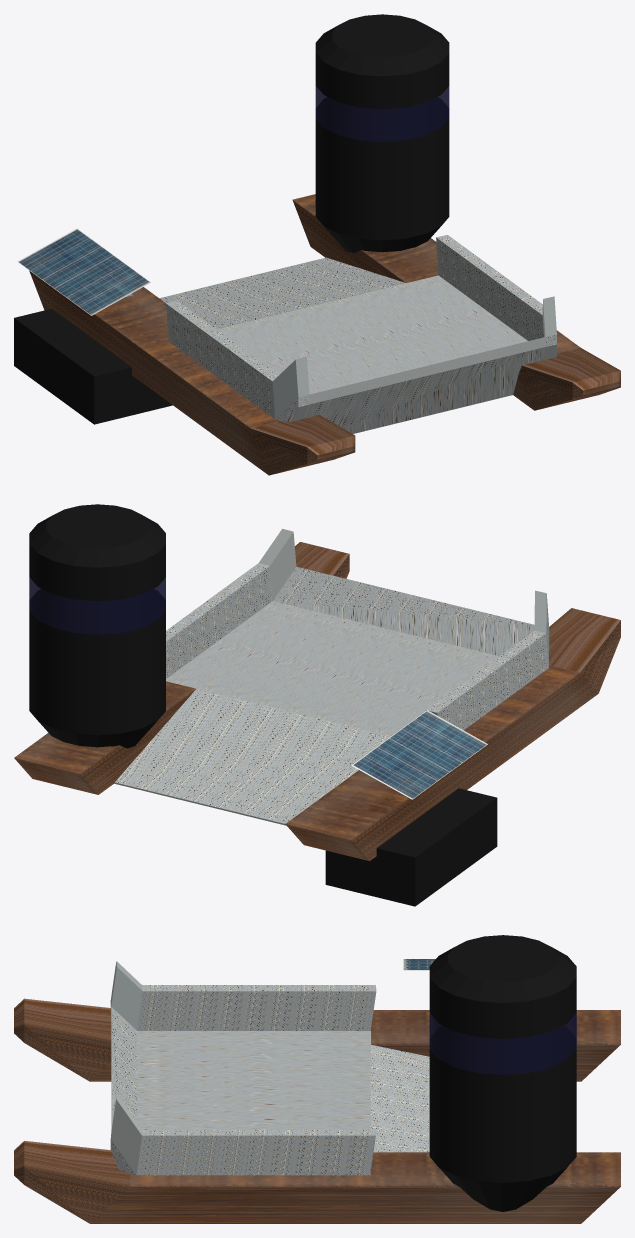
Rendered from BarcoUnity.FBX.
3 views of the same model, one above another, from view 1: azimuth 30°, elevation 25°; view 2: azimuth 150°, elevation 25°; view 3: azimuth 270°, elevation 25° (orthographic). The views are drawn at different scales.
Parts seen in each view (by area): view 1: Box003, Cylinder001, Box001, Box004, Plane001; view 2: Box003, Cylinder001, Box001, Box004, Plane001; view 3: Box003, Box001, Cylinder001.
Boxes of the visible parts, x1=… form: Box003: x1=159, y1=235, x2=556, y2=433; Cylinder001: x1=315, y1=14, x2=449, y2=253; Box001: x1=29, y1=194, x2=620, y2=475; Box004: x1=14, y1=309, x2=172, y2=424; Plane001: x1=17, y1=228, x2=150, y2=315; Box003: x1=114, y1=528, x2=549, y2=825; Cylinder001: x1=29, y1=504, x2=165, y2=748; Box001: x1=14, y1=542, x2=620, y2=861; Box004: x1=325, y1=788, x2=497, y2=906; Plane001: x1=351, y1=710, x2=487, y2=799; Box003: x1=110, y1=961, x2=429, y2=1175; Box001: x1=14, y1=998, x2=620, y2=1223; Cylinder001: x1=429, y1=935, x2=576, y2=1211.
Size of the model in its own units: 123 by 79.28 by 148.
Materials: 5 (3 with a texture image).
